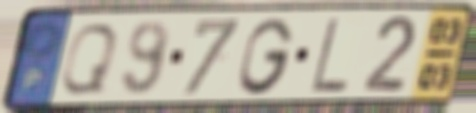2: (361, 13, 419, 95)
7: (179, 17, 243, 97)
9: (120, 18, 172, 98)
G: (236, 15, 298, 98)
L: (308, 15, 351, 95)
Q: (57, 21, 123, 97)
